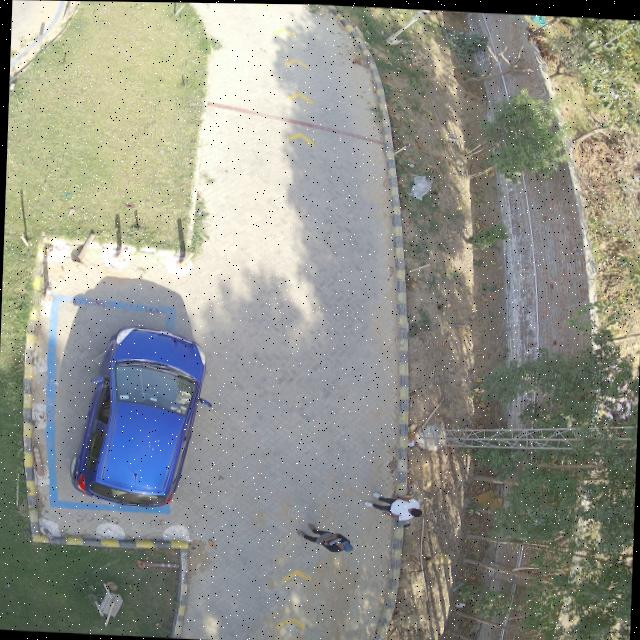car: (70, 326, 209, 506)
